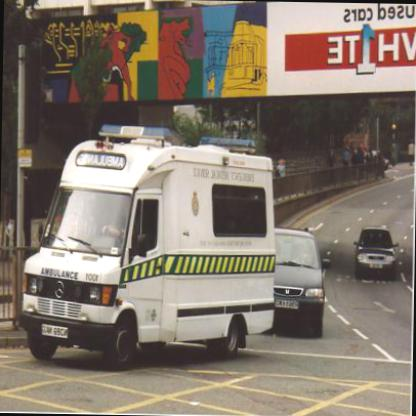truck: (11, 120, 281, 371)
